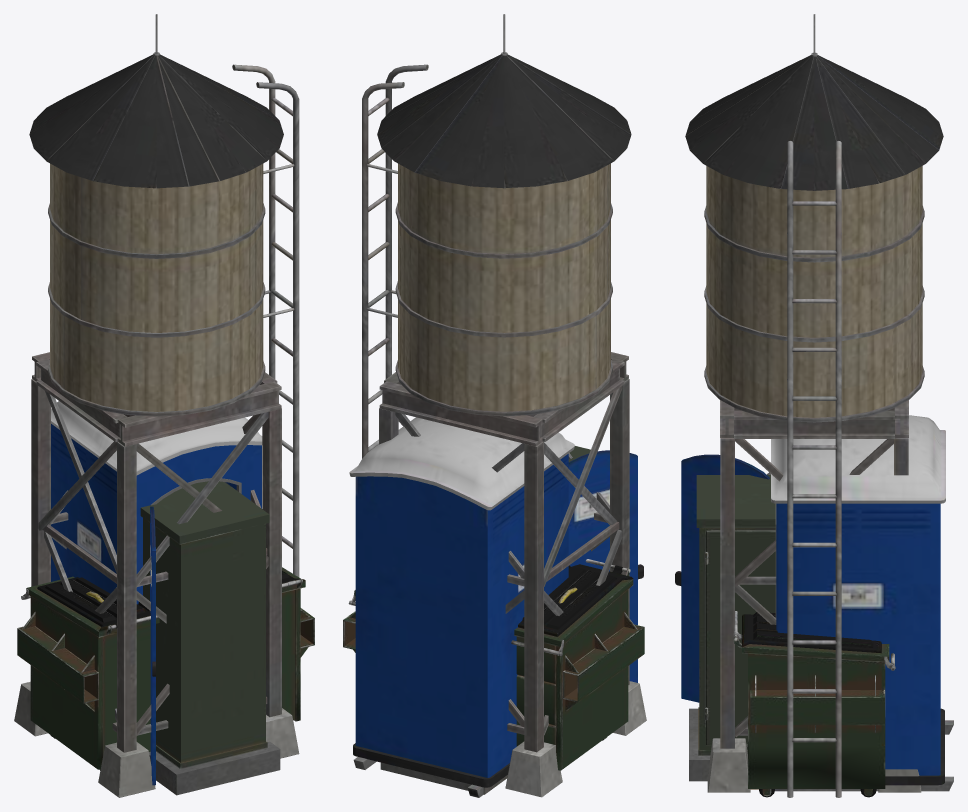
File: terminal.glb
3 views of the same model, side by side, from view 1: azimuth 30°, elevation 25°; view 2: azimuth 150°, elevation 25°; view 3: azimuth 270°, elevation 25° (orthographic).
Visible parts, largest first — view 1: water_tower, switchgear, dumpster, portaloo; view 2: water_tower, portaloo, dumpster, switchgear; view 3: water_tower, portaloo, dumpster, switchgear.
Boxes of the visible parts, bbox=[...] form: water_tower: bbox=[14, 14, 299, 797]; switchgear: bbox=[140, 481, 280, 795]; dumpster: bbox=[17, 567, 314, 770]; portaloo: bbox=[51, 401, 262, 785]; water_tower: bbox=[362, 14, 646, 797]; portaloo: bbox=[349, 417, 643, 797]; dumpster: bbox=[343, 559, 644, 770]; switchgear: bbox=[380, 446, 590, 794]; water_tower: bbox=[685, 14, 943, 797]; portaloo: bbox=[675, 415, 953, 791]; dumpster: bbox=[733, 611, 895, 797]; switchgear: bbox=[689, 475, 775, 781].
Bounding box in the file's own units: 2.09 × 6.04 × 2.07.
14 materials, 14 textured.
